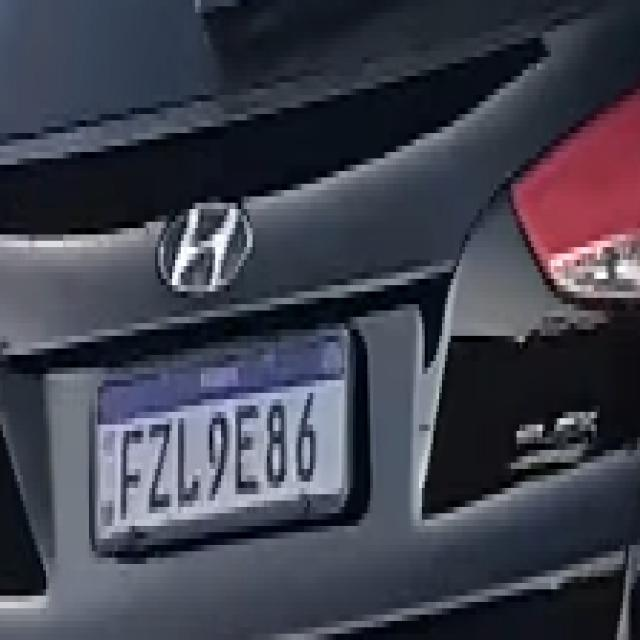Placa_mercosul_carro: (94, 324, 354, 555)
